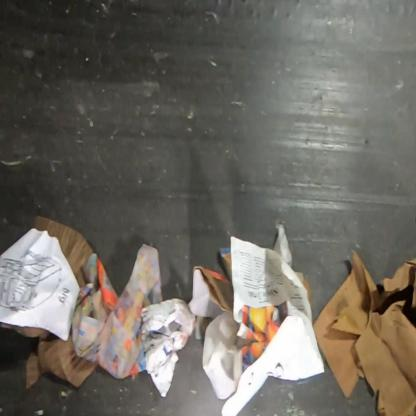cardboard: (33, 215, 95, 288), (24, 332, 98, 390), (187, 265, 234, 320), (0, 322, 50, 340)
soft_plastic: (201, 313, 243, 400)
